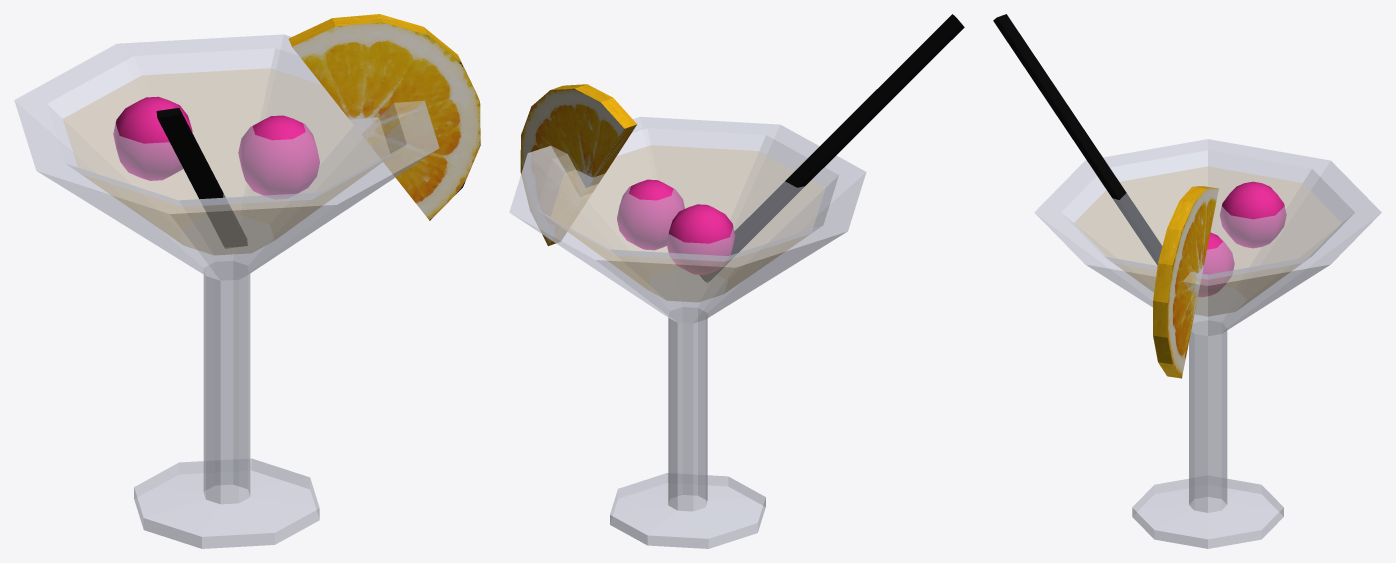
The model's file is cocktail.fbx.
3 renders of one model, left to right at view 1: azimuth 30°, elevation 25°; view 2: azimuth 150°, elevation 25°; view 3: azimuth 270°, elevation 25°, orthographic. The views are drawn at different scales.
Parts seen in each view (by area): view 1: Cylinder, Cylinder.001, Sphere, Cube; view 2: Cylinder, Cylinder.001, Sphere, Cube; view 3: Cylinder, Cylinder.001, Sphere, Cube.
Boxes of the visible parts, box(x1,y1,x2,y2) form: Cylinder: box(14, 34, 439, 548); Cylinder.001: box(289, 14, 480, 220); Sphere: box(113, 96, 319, 195); Cube: box(156, 108, 247, 247); Cylinder: box(509, 116, 866, 548); Cylinder.001: box(520, 84, 636, 245); Sphere: box(617, 179, 735, 274); Cube: box(700, 14, 964, 281); Cylinder: box(1034, 139, 1381, 548); Cylinder.001: box(1153, 186, 1218, 378); Sphere: box(1198, 181, 1286, 296); Cube: box(993, 14, 1162, 264).
Size of the model in its own units: 86.86 by 106 by 87.29.
